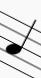A: (5, 8, 38, 78)
